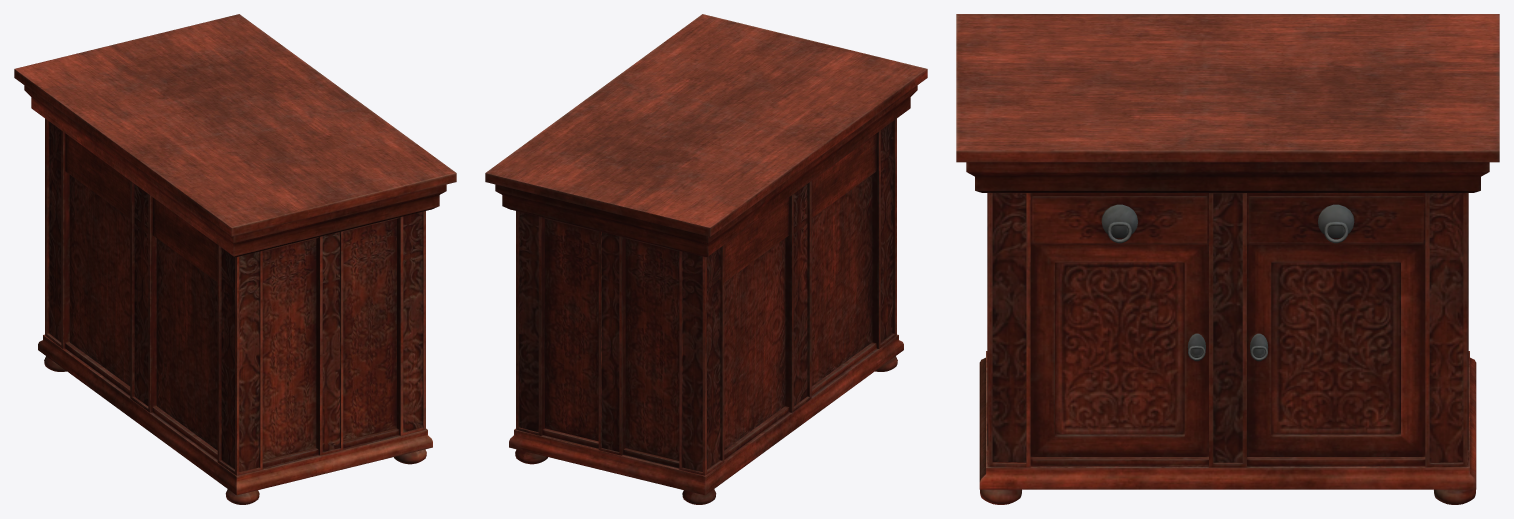
Rendered from drawer.glb.
The picture shows the model from 3 angles, left to right: view 1: azimuth 30°, elevation 25°; view 2: azimuth 150°, elevation 25°; view 3: azimuth 270°, elevation 25°; orthographic projection. The views are drawn at different scales.
Visible parts, largest first — view 1: Medieval_Drawer; view 2: Medieval_Drawer; view 3: Medieval_Drawer.
Boxes of the visible parts, left/top/right/bottom form: Medieval_Drawer: left=14, top=14, right=456, bottom=504; Medieval_Drawer: left=485, top=14, right=927, bottom=504; Medieval_Drawer: left=956, top=14, right=1499, bottom=504.
Size of the model in its own units: 4.17 by 5.16 by 6.97.
Materials: 1 (1 with a texture image).
